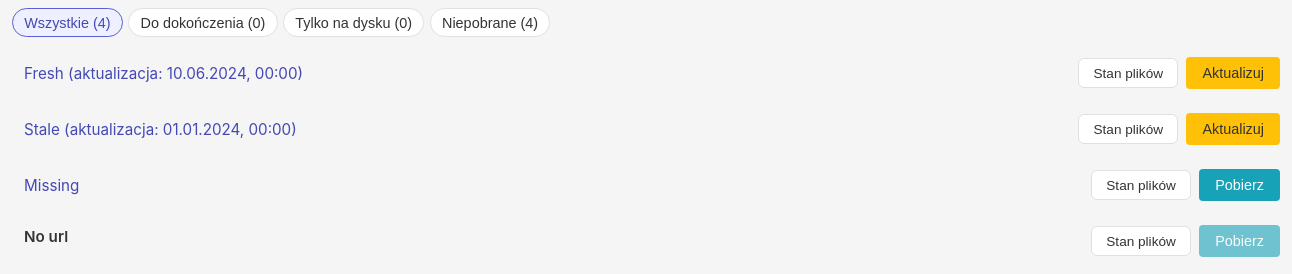
it: VideoListSection › says so when a filter matches nothing
This screenshot has width=1292, height=274.
Expected: the link "Fresh (aktualizacja: 10.06.2024, 00:00)" is shown, x1=24 y1=64 x2=303 y2=83
Click the button "Niepobrane (4)" at (490, 23), box x1=430 y1=8 x2=550 y2=37
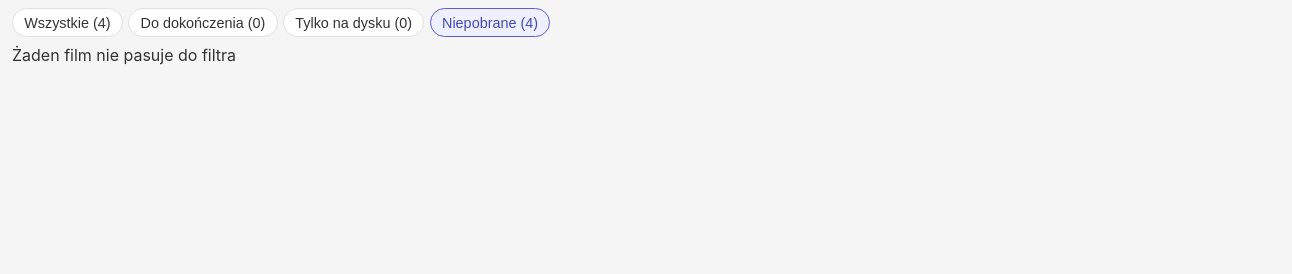
Expected: the text "Żaden film nie pasuje do filtra" is shown, x1=12 y1=45 x2=236 y2=65
